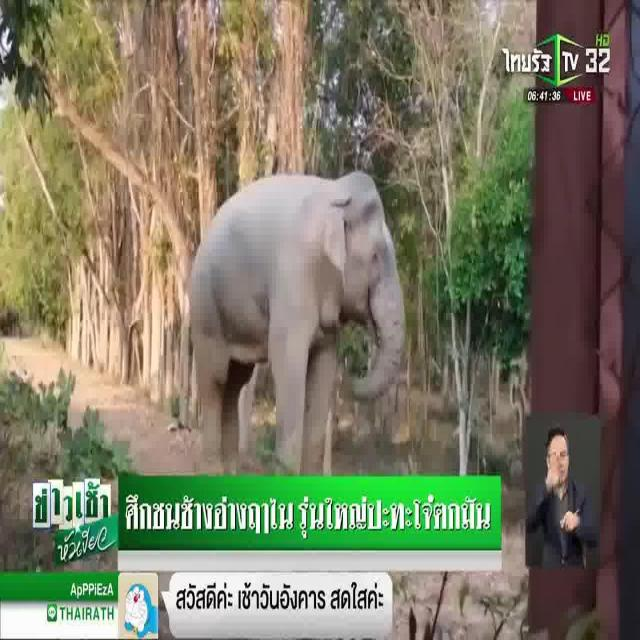Elephant: (189, 167, 401, 414)
